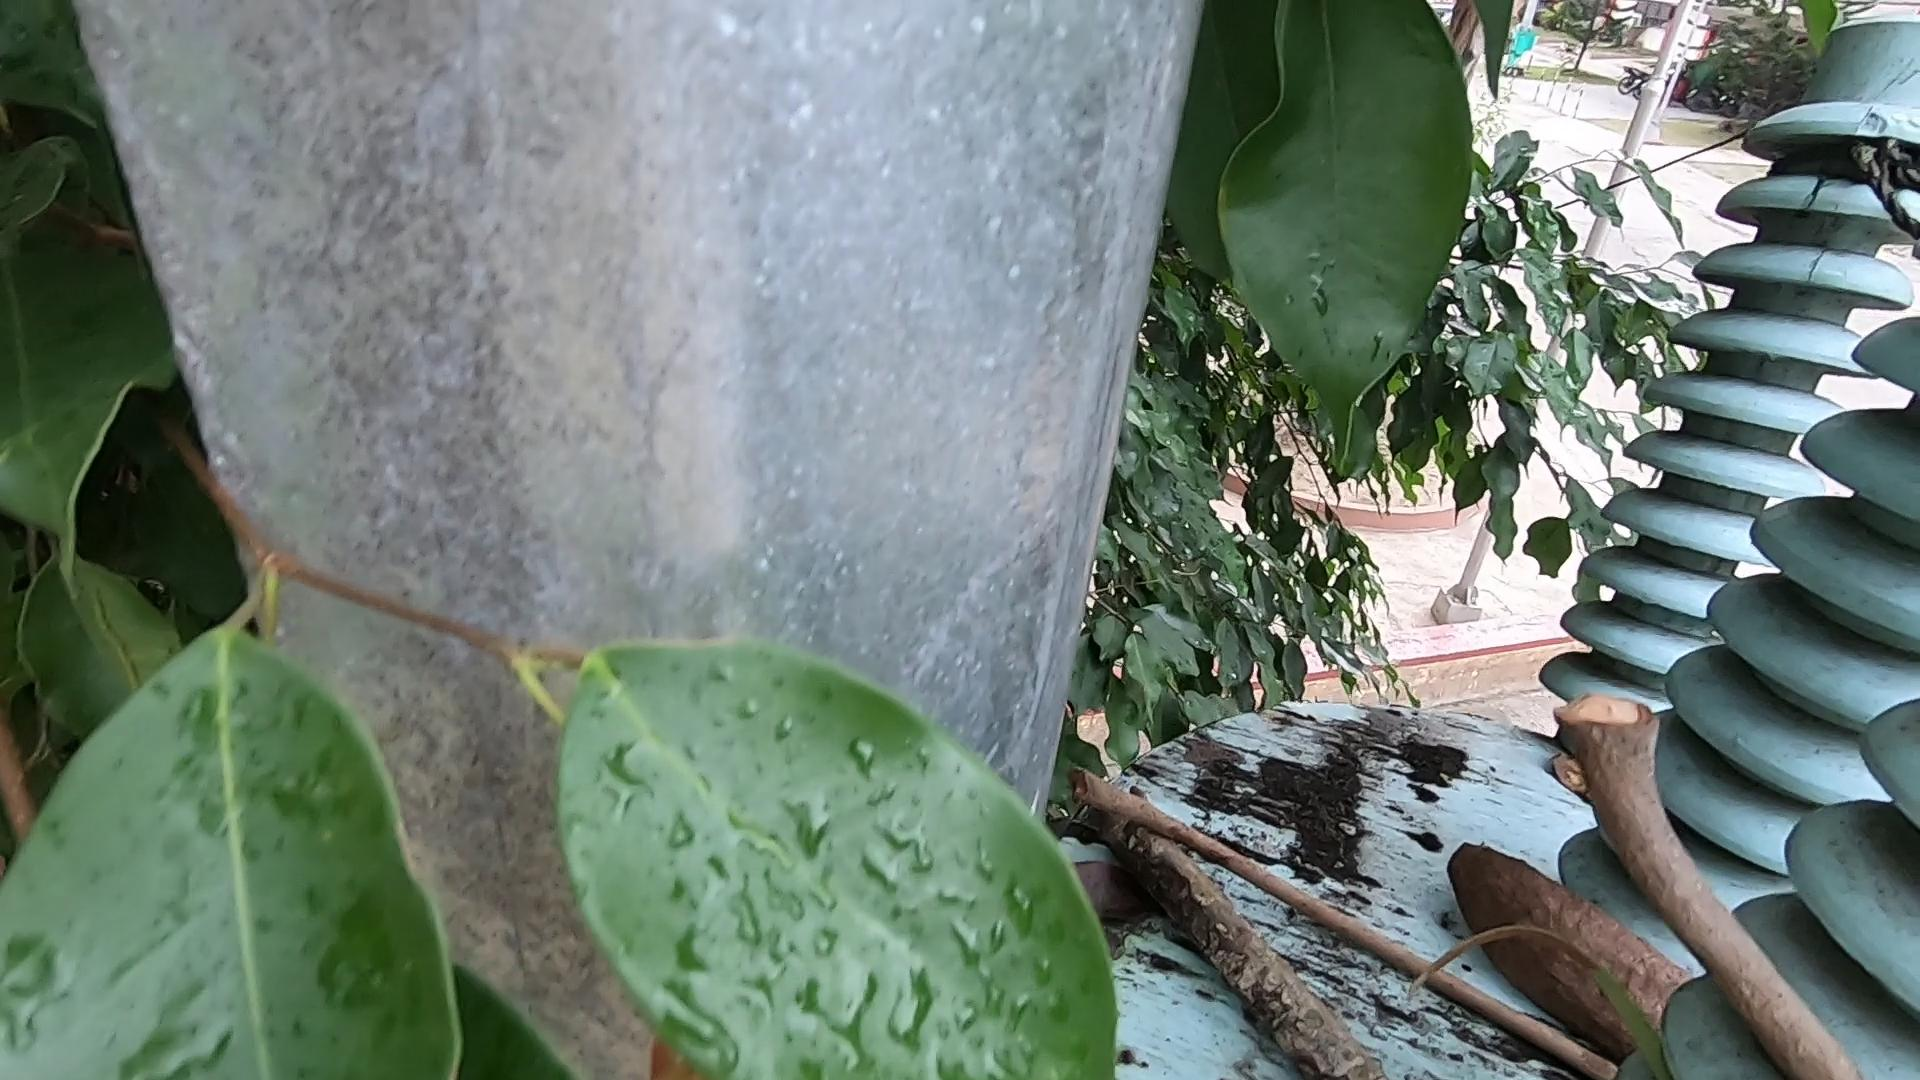branch with leaves: (1069, 765, 1389, 1080)
leaf: (1396, 920, 1693, 1080), (1054, 847, 1156, 920)
mahogany fruit: (1449, 819, 1712, 1054)
tree branch: (1054, 752, 1636, 1077), (1528, 682, 1902, 1076)
